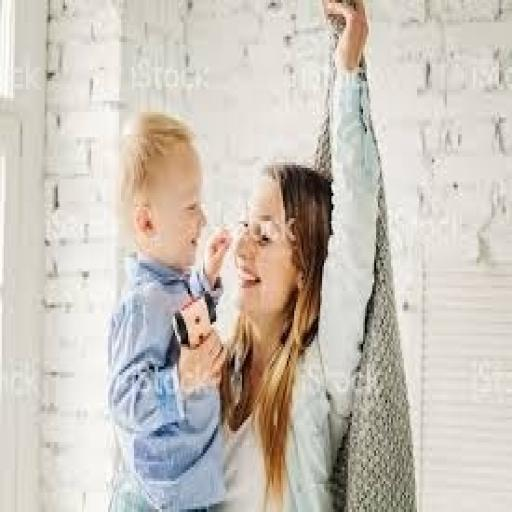hugging: (102, 0, 417, 509)
